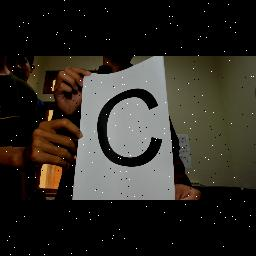c: (97, 86, 163, 168)
